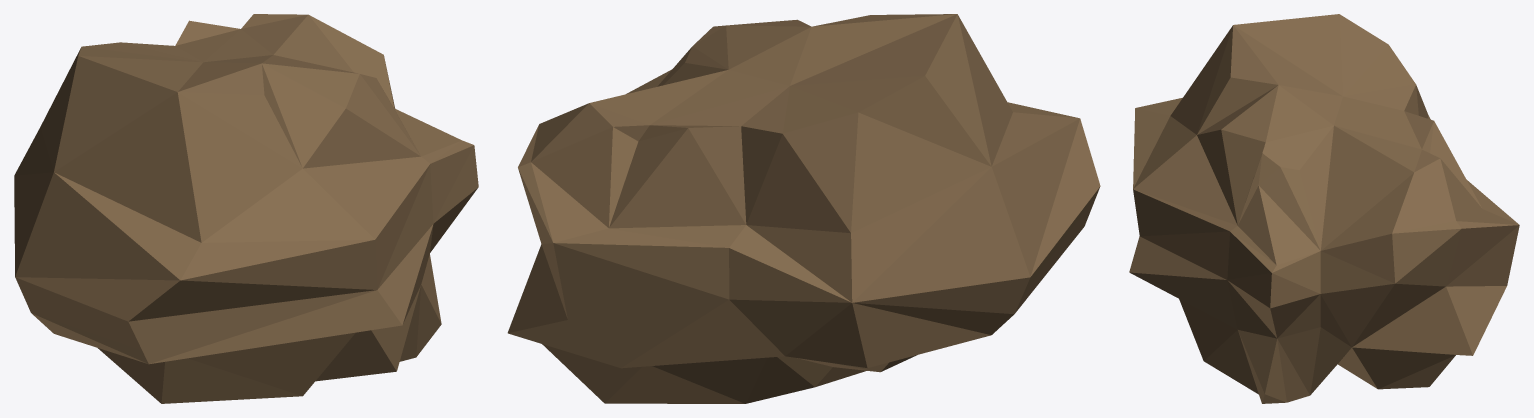
Rendered from SM_Env_Rock_012.gltf.
3 views of the same model, side by side, from view 1: azimuth 30°, elevation 25°; view 2: azimuth 150°, elevation 25°; view 3: azimuth 270°, elevation 25° (orthographic). The views are drawn at different scales.
Parts seen in each view (by area): view 1: SM_Env_Rock_012; view 2: SM_Env_Rock_012; view 3: SM_Env_Rock_012.
Part boxes in pixels (left/top/right/bottom): SM_Env_Rock_012: left=14, top=14, right=478, bottom=403; SM_Env_Rock_012: left=507, top=14, right=1100, bottom=403; SM_Env_Rock_012: left=1129, top=14, right=1519, bottom=403.
Size of the model in its own units: 2.45 by 1.81 by 2.31.
1 material, 1 textured.
